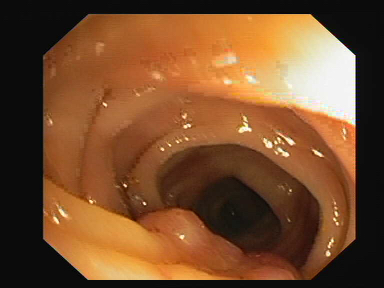polyp: (136, 207, 245, 264), (245, 253, 300, 279)
